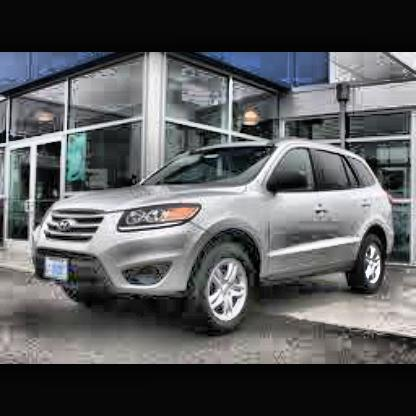Hyundai Santa Fe SUV 2012: (30, 139, 397, 337)
